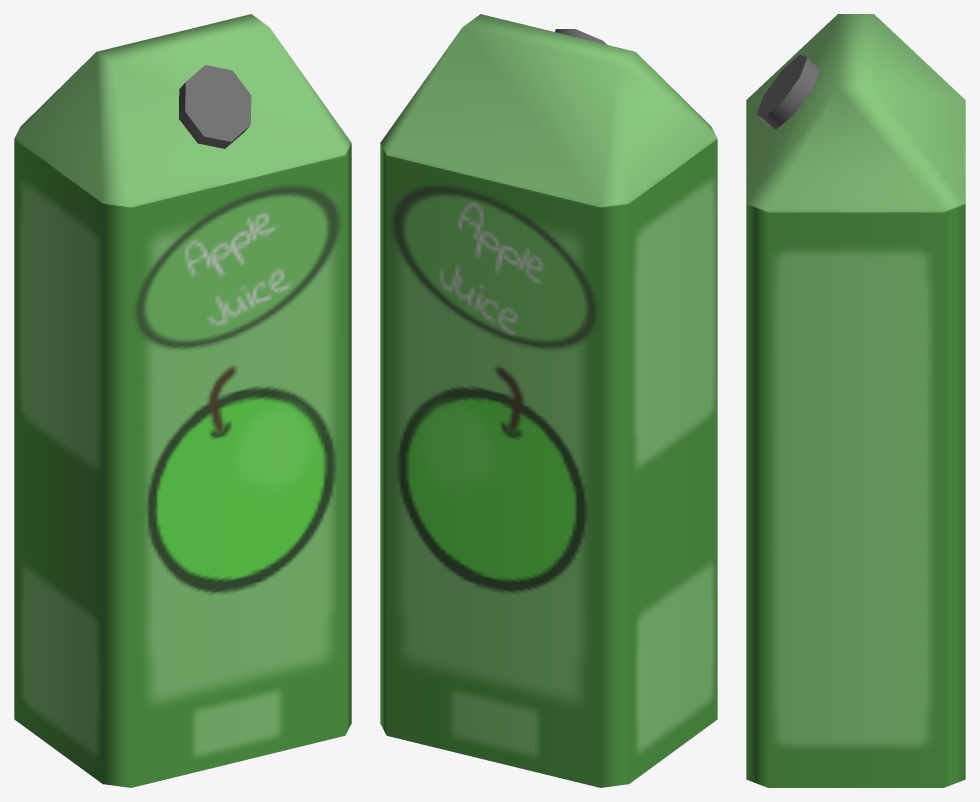
The model's file is Apple_Green_Juice.fbx.
The picture shows the model from 3 angles, left to right: view 1: azimuth 30°, elevation 25°; view 2: azimuth 150°, elevation 25°; view 3: azimuth 270°, elevation 25°; orthographic projection.
Parts seen in each view (by area): view 1: Apple_Green_Juice; view 2: Apple_Green_Juice; view 3: Apple_Green_Juice.
Part boxes in pixels (x1=…): Apple_Green_Juice: x1=14, y1=14, x2=351, y2=787; Apple_Green_Juice: x1=380, y1=14, x2=717, y2=787; Apple_Green_Juice: x1=746, y1=14, x2=965, y2=787.
Size of the model in its own units: 9.88 by 25.84 by 7.6.
